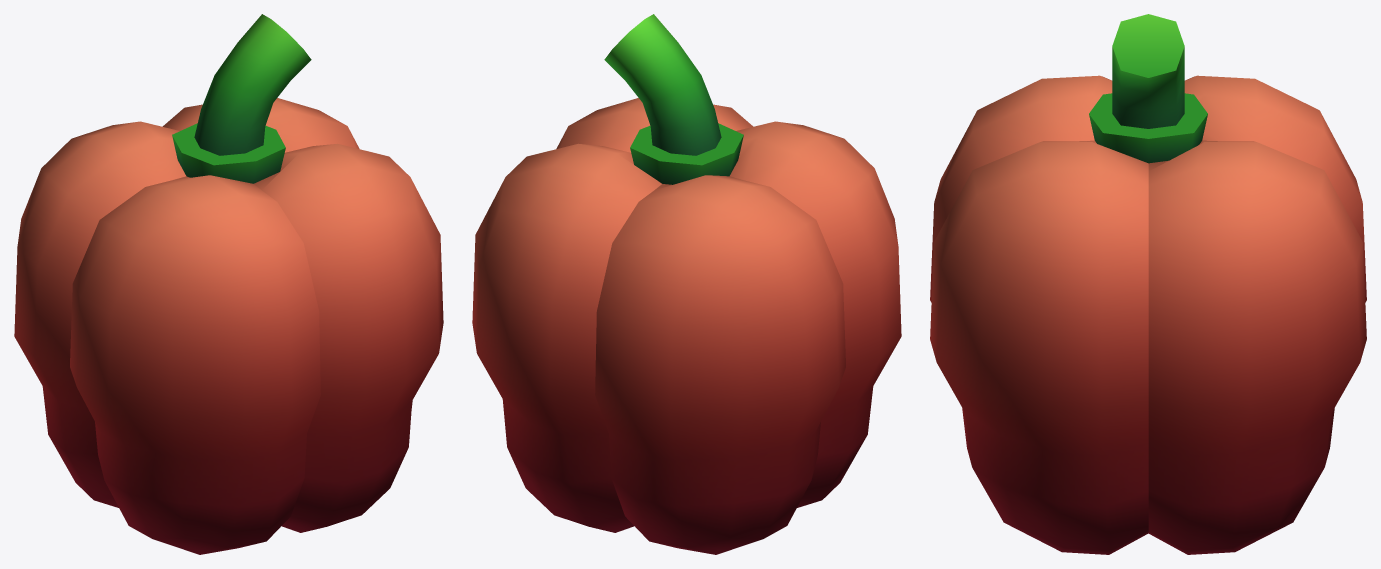
The model's file is Bell_Pepper_01.glb.
3 views of the same model, side by side, from view 1: azimuth 30°, elevation 25°; view 2: azimuth 150°, elevation 25°; view 3: azimuth 270°, elevation 25° (orthographic). The views are drawn at different scales.
Visible parts, largest first — view 1: Bell_Pepper_01; view 2: Bell_Pepper_01; view 3: Bell_Pepper_01.
Boxes of the visible parts, x1,y1,x2,y2 form: Bell_Pepper_01: (14, 14, 443, 554); Bell_Pepper_01: (472, 14, 901, 554); Bell_Pepper_01: (930, 14, 1366, 554).
Size of the model in its own units: 0.2682 by 0.3577 by 0.2682.
Materials: 1 (1 with a texture image).
